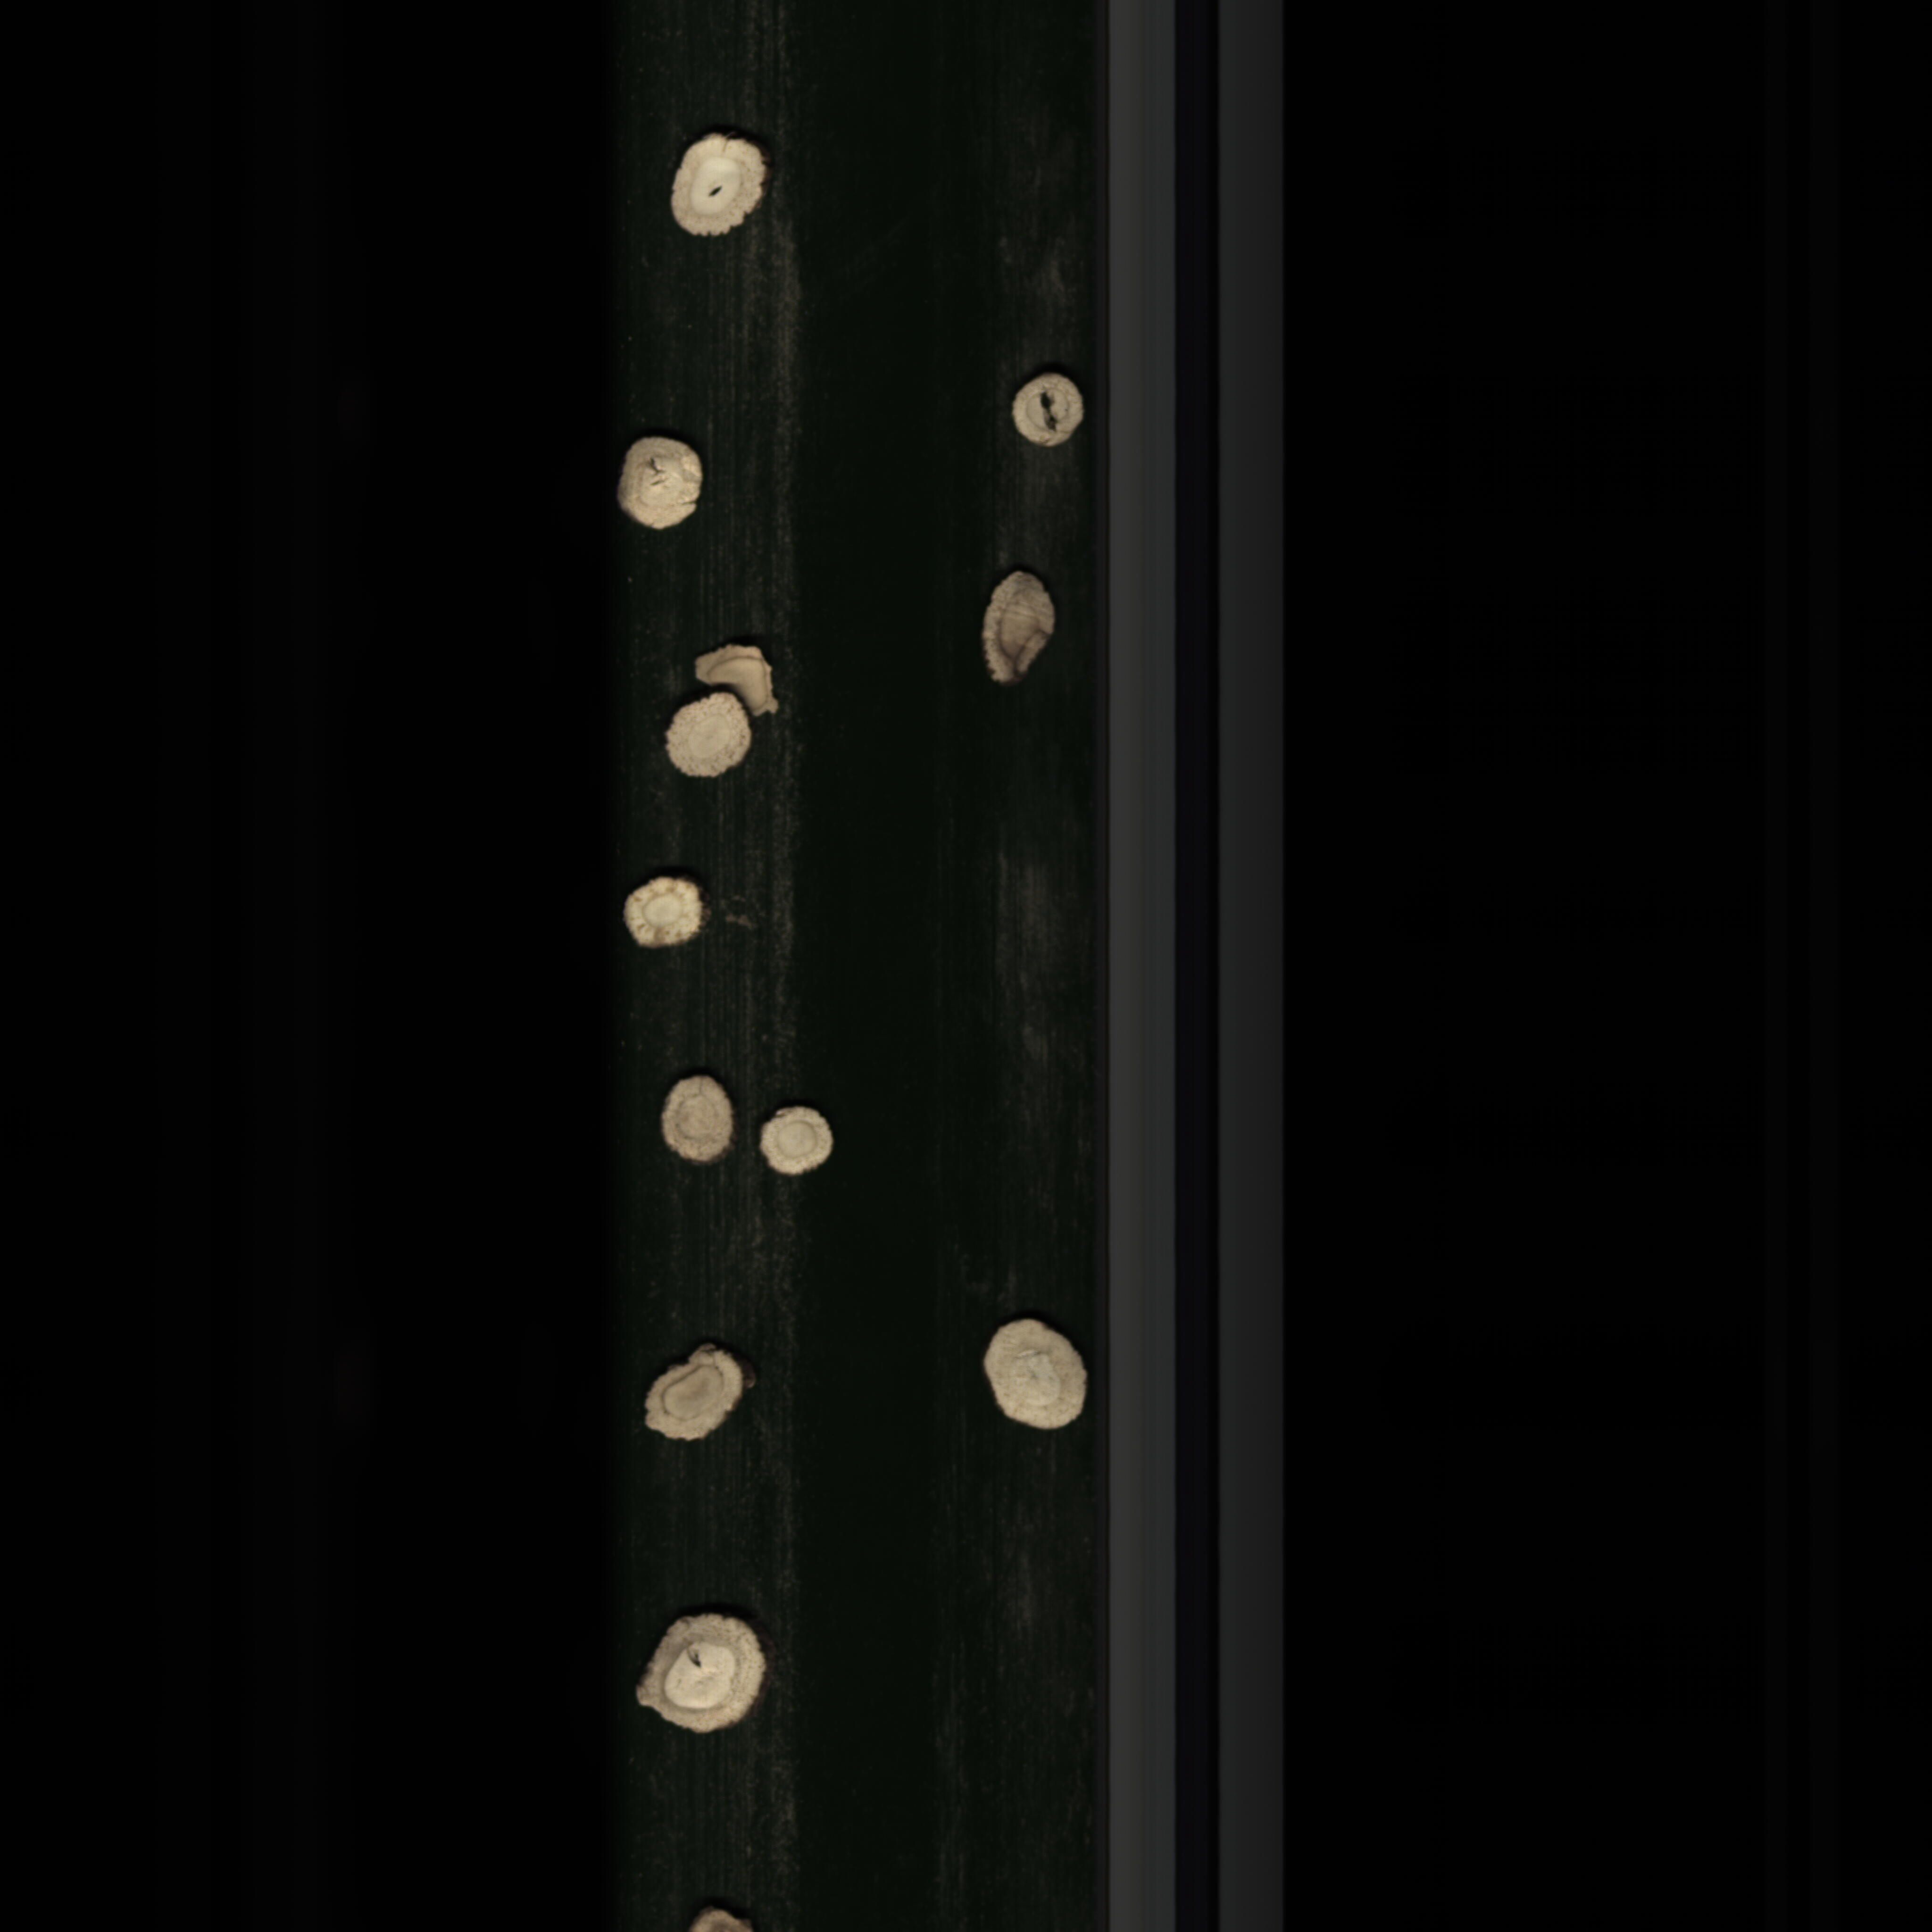hole: (616, 1603, 786, 1739), (653, 117, 786, 249), (1007, 368, 1095, 451)
moldy: (975, 554, 1070, 692)
